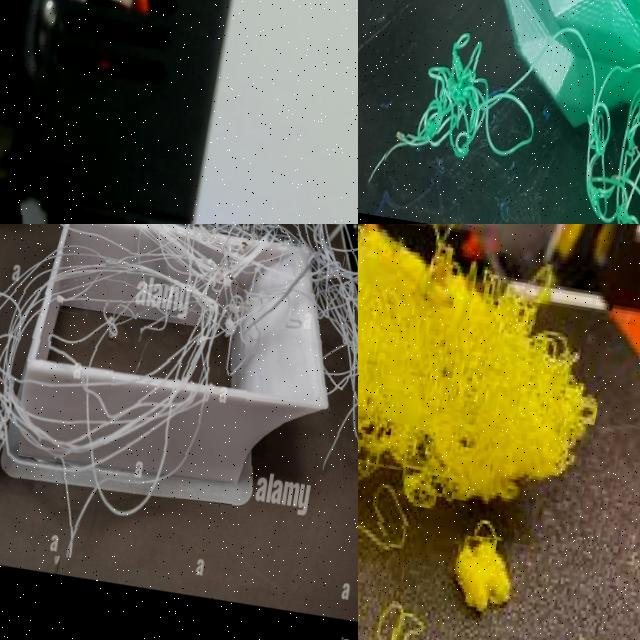spaghetti: (0, 224, 358, 611), (358, 224, 598, 535), (384, 35, 533, 177), (582, 65, 640, 224), (451, 517, 515, 612), (358, 589, 428, 640)
